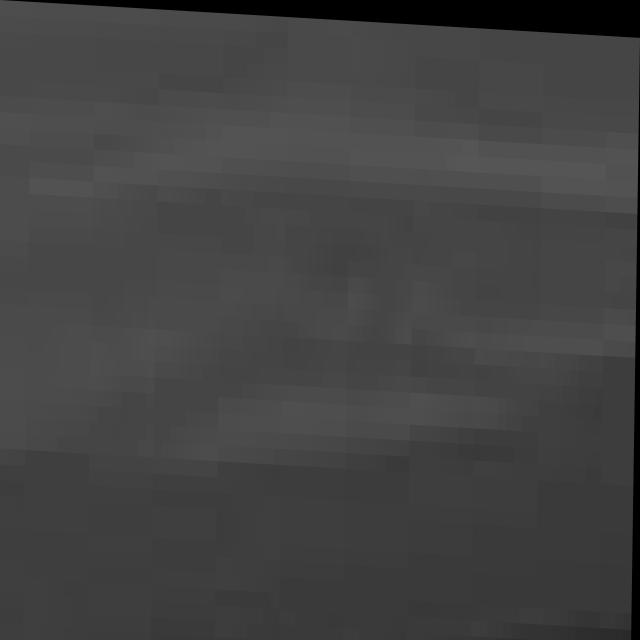fracture: (0, 28, 638, 640)
